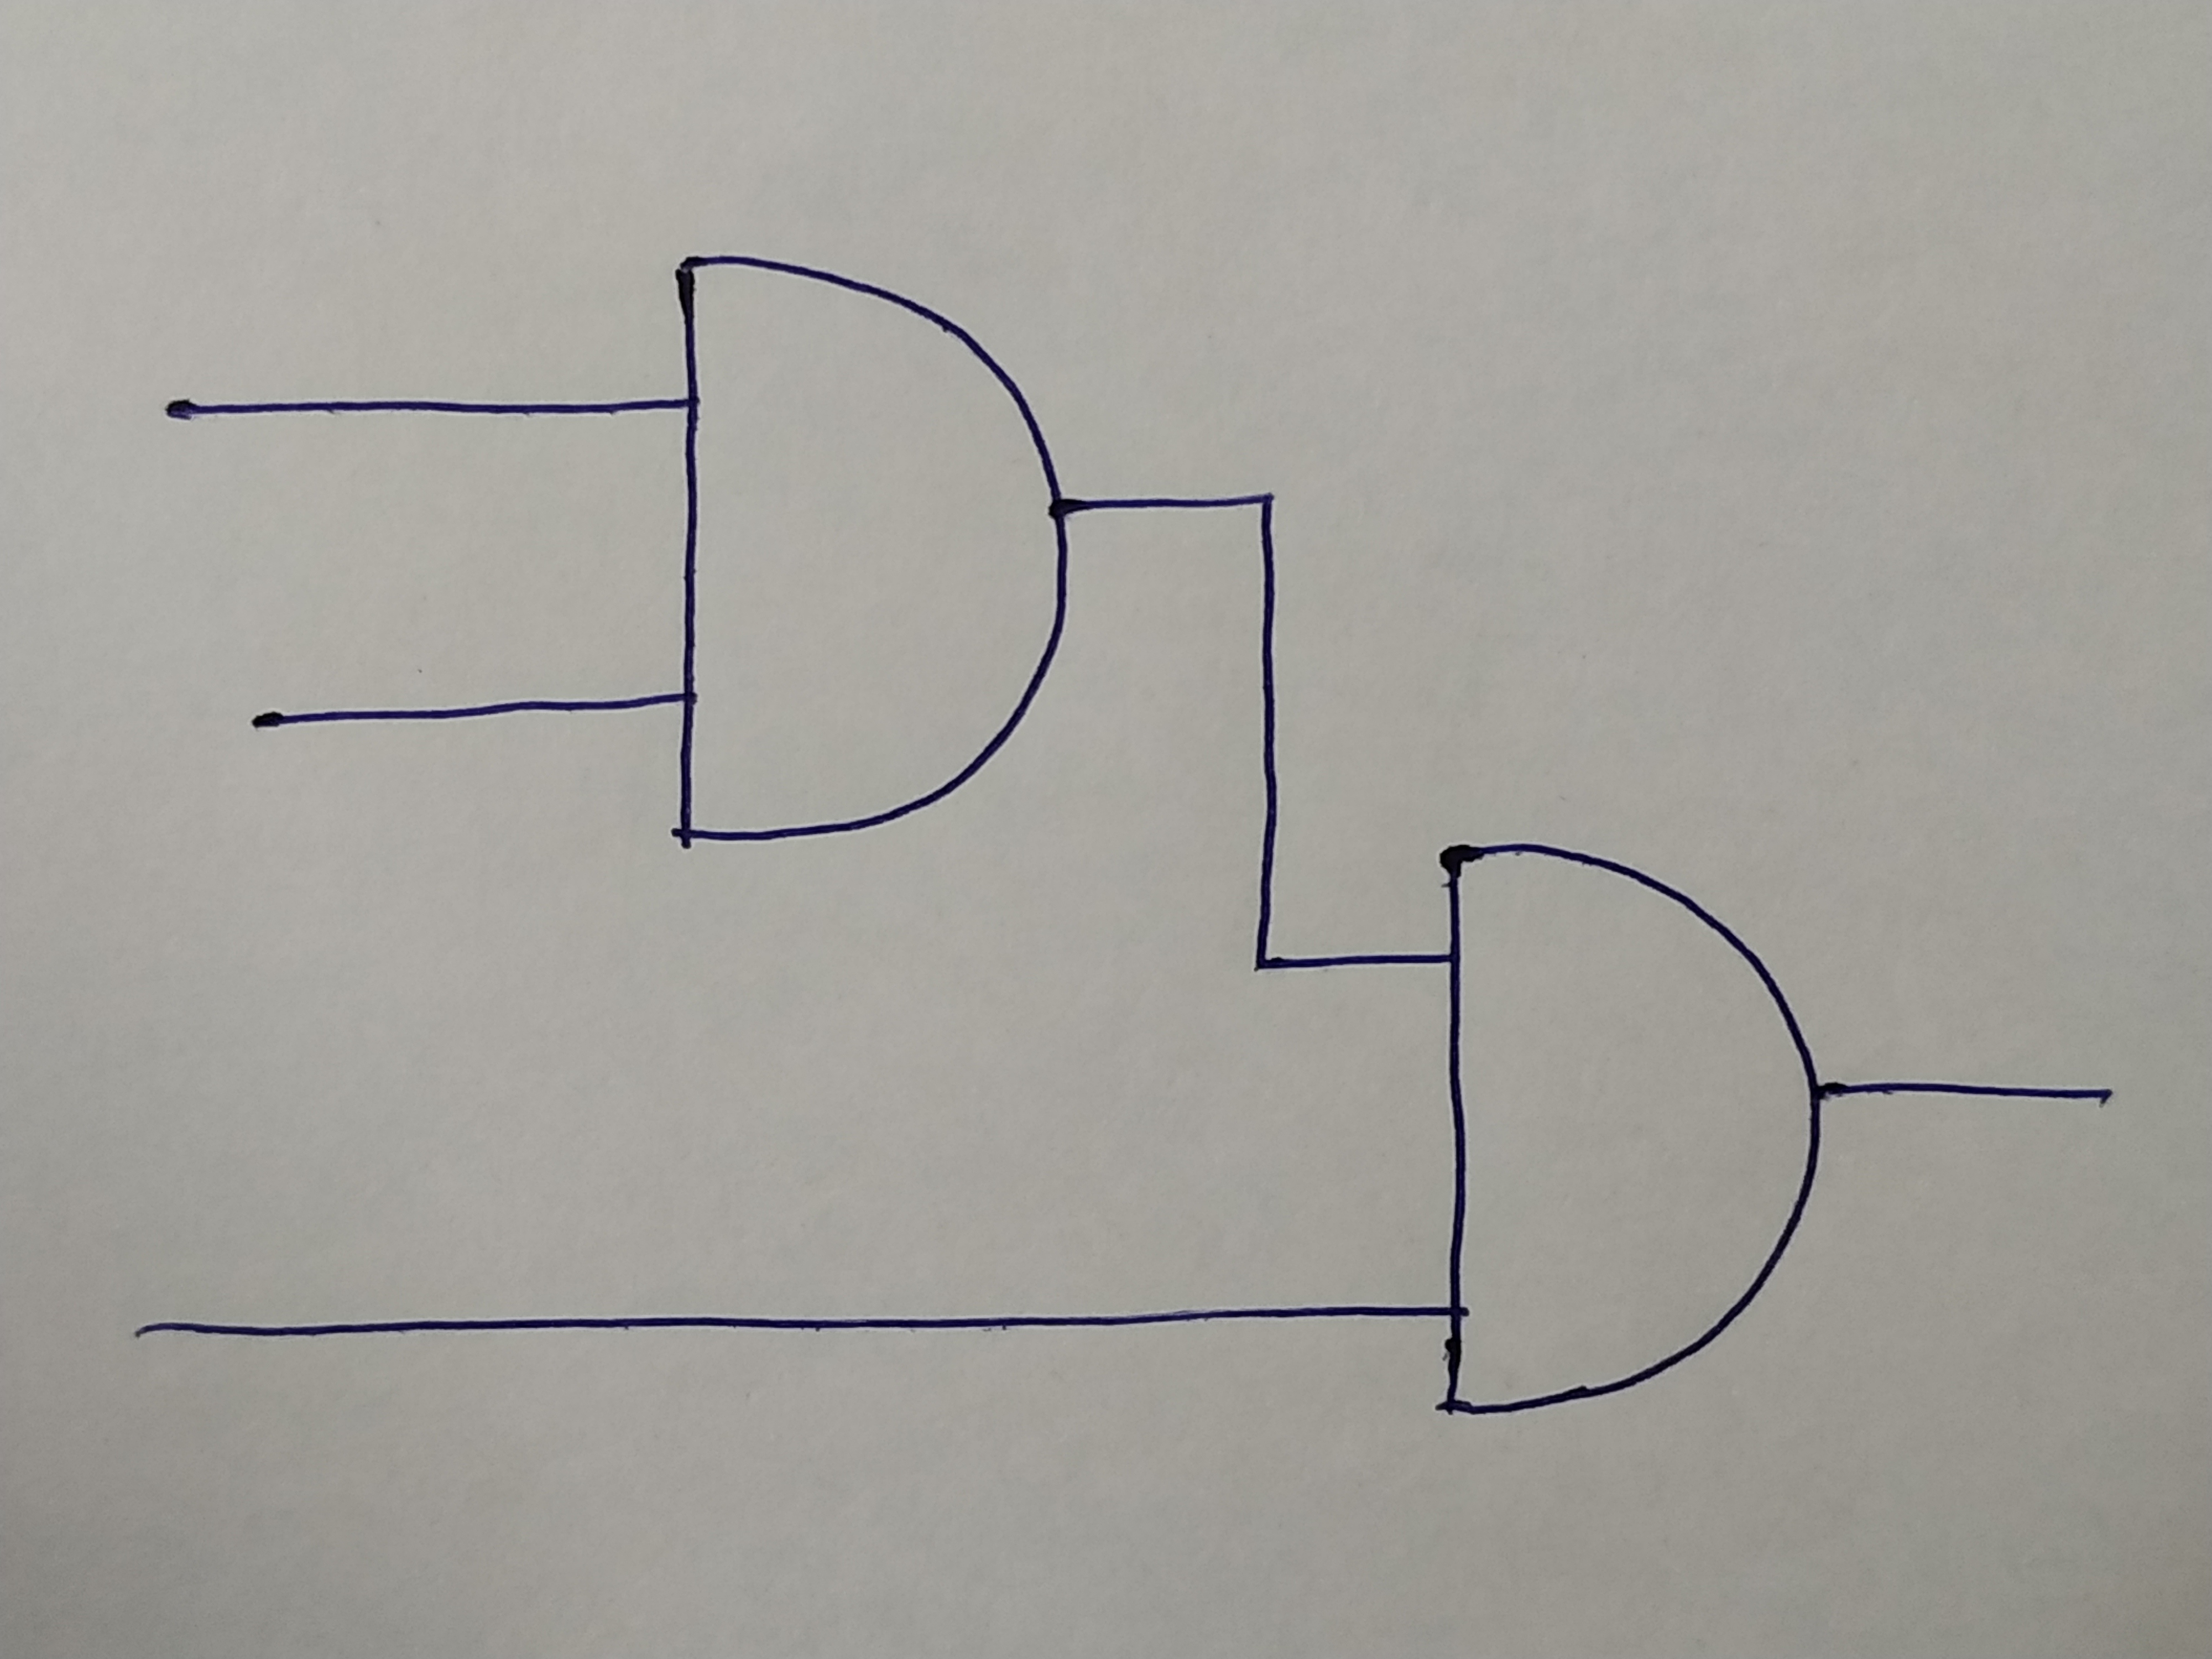and: (658, 256, 1062, 838), (1433, 850, 1820, 1420)
